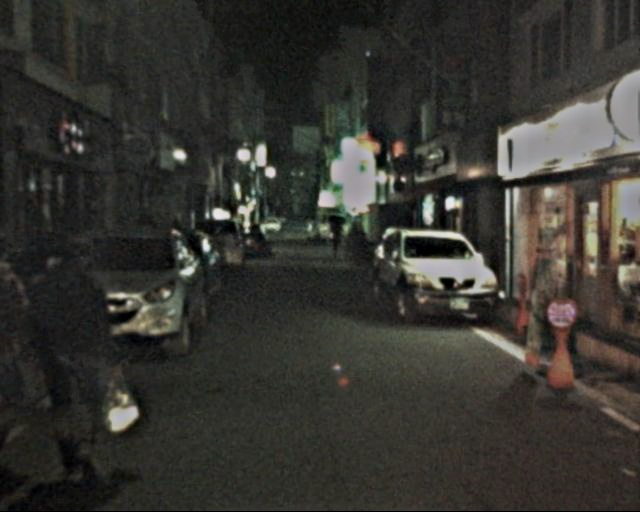person: (28, 229, 138, 488), (1, 222, 50, 480), (329, 219, 346, 259)
